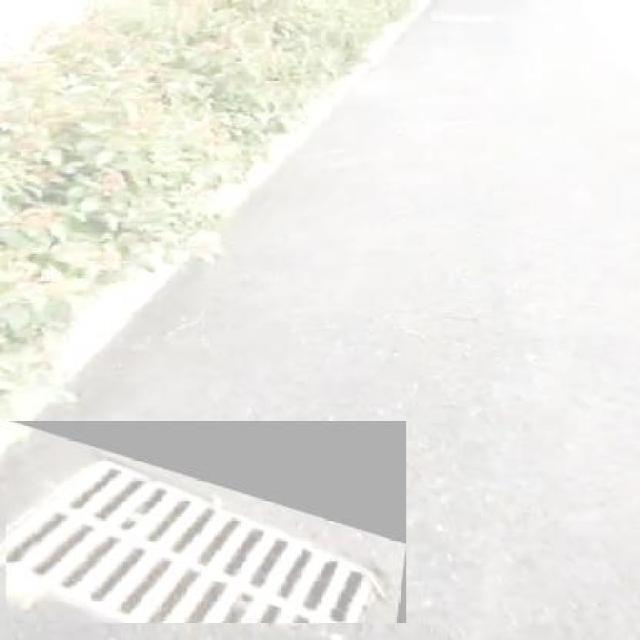Manhole: (7, 420, 407, 623)
